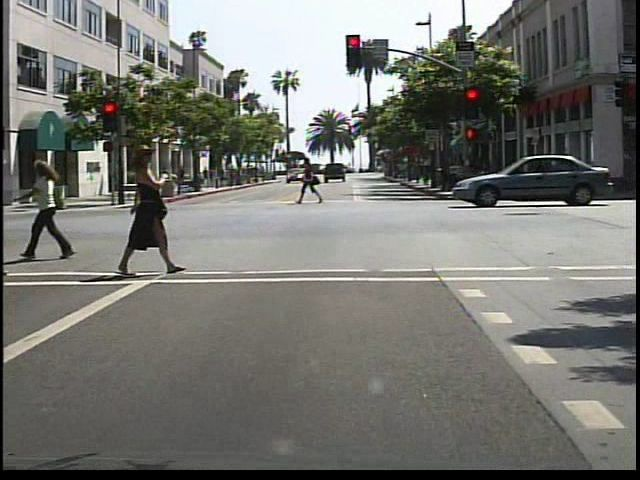person: (113, 136, 194, 276), (29, 157, 83, 265), (298, 156, 327, 206), (1, 146, 6, 284), (172, 163, 189, 192)
